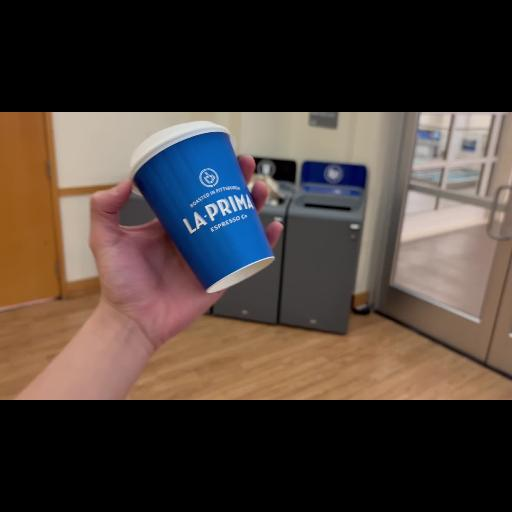lp_paper_cup: (114, 118, 306, 298)
